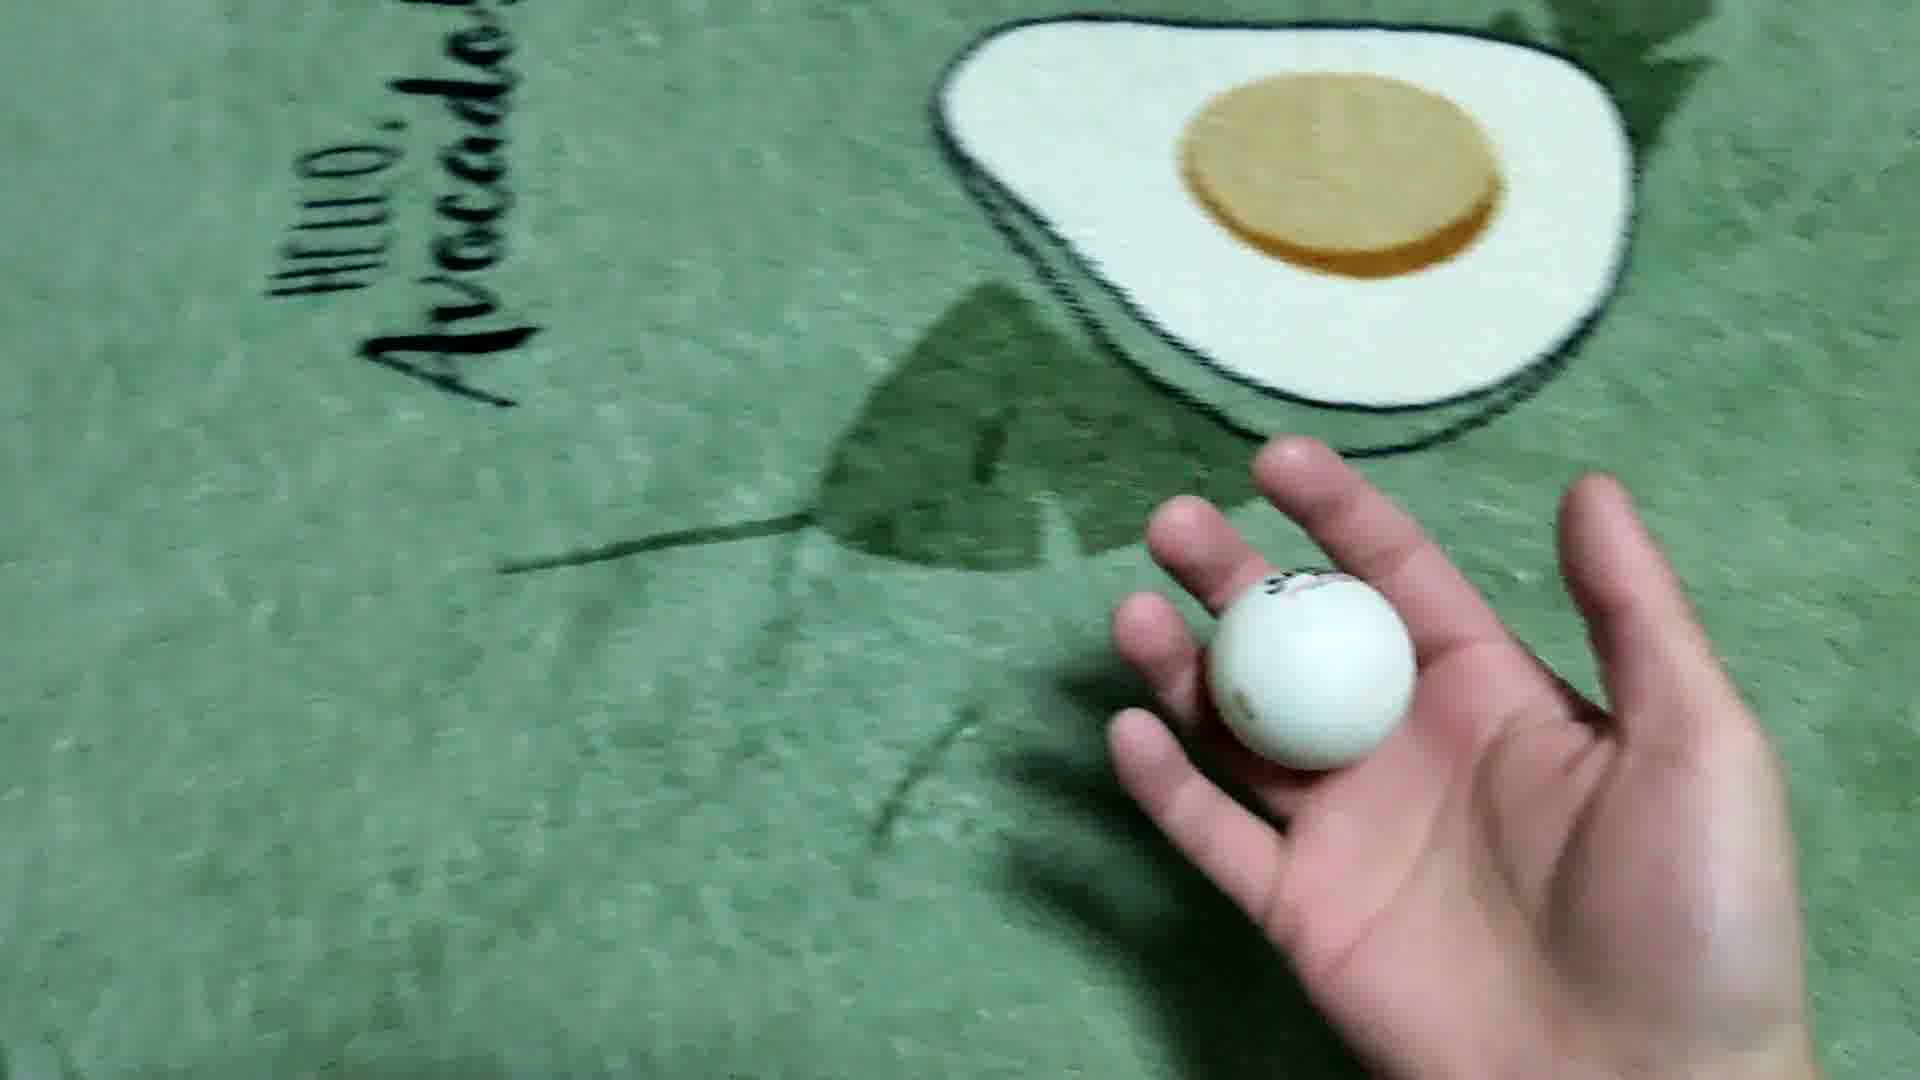Ball: (1209, 566, 1420, 766)
